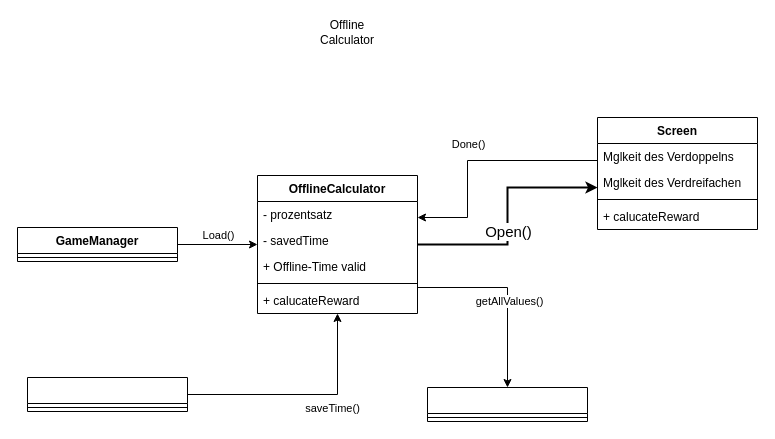
Some shapes in this 775 by 439 pixel diagram are drawn without their labels. The shapes that lost their labels are listed below. From the top down, each one's centre as x and y in pixels, then its label:
At (107,394): "OnApplicationClose".
At (507,404): "Calculator".
